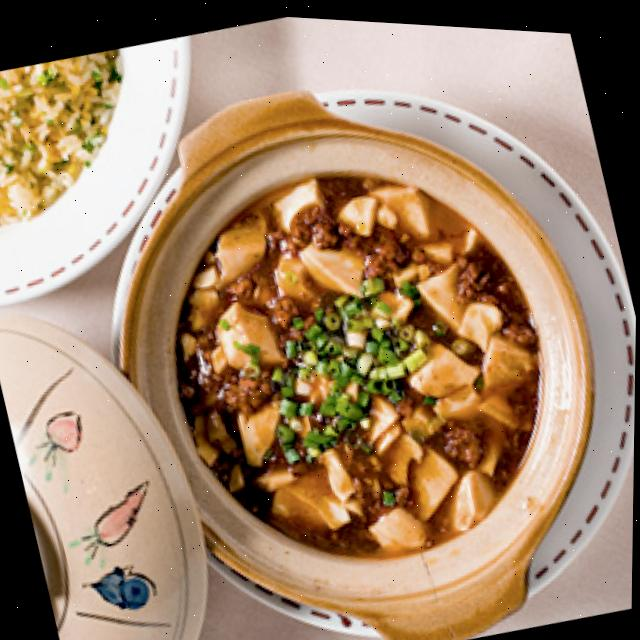豆腐料理: (54, 13, 640, 640)
